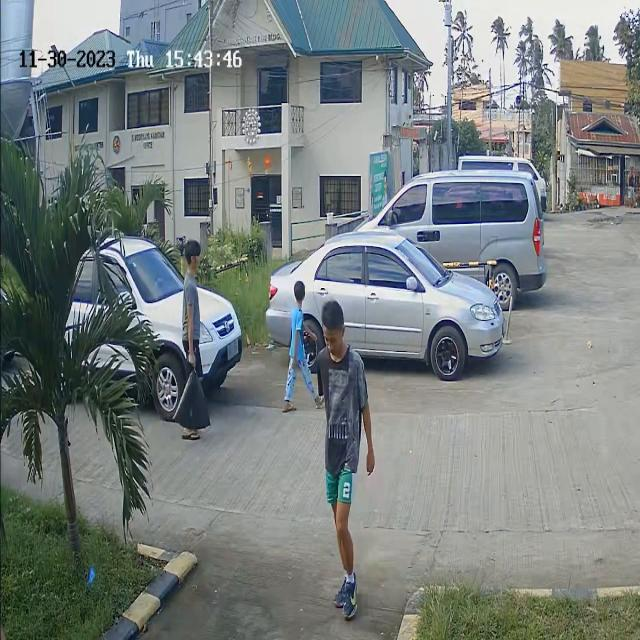garbage: (177, 374, 213, 432)
person: (312, 298, 360, 454), (174, 240, 209, 372), (283, 282, 310, 393)
